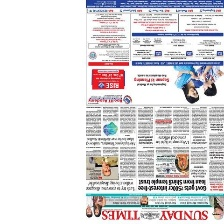news_paper: (85, 0, 224, 224)
